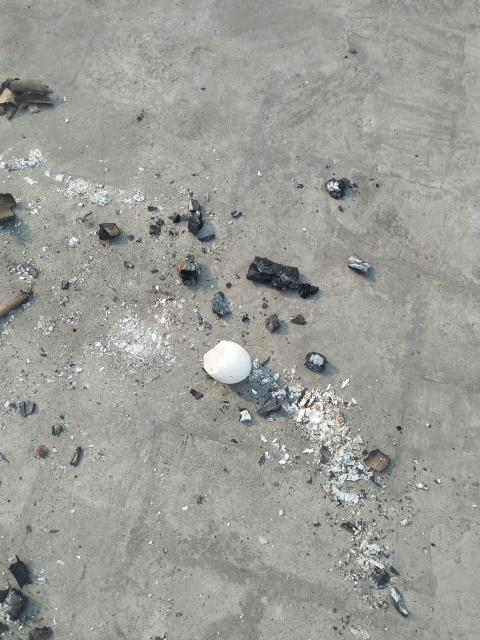Roto: (202, 340, 252, 384)
